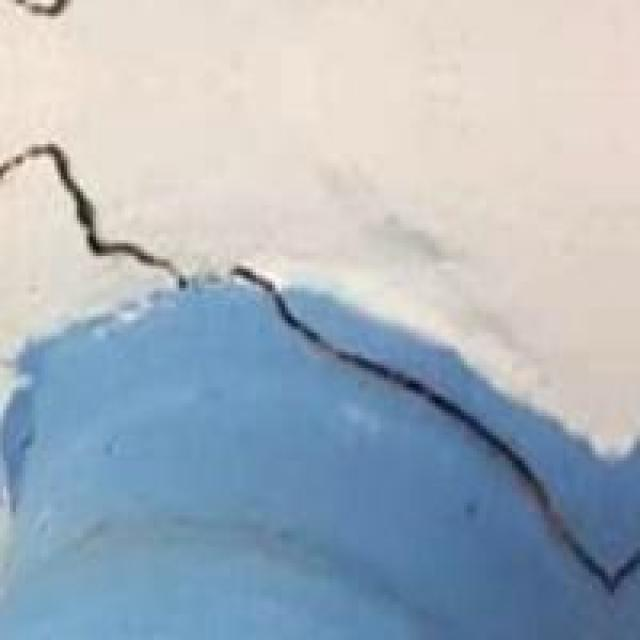Crack: (0, 122, 637, 592)
